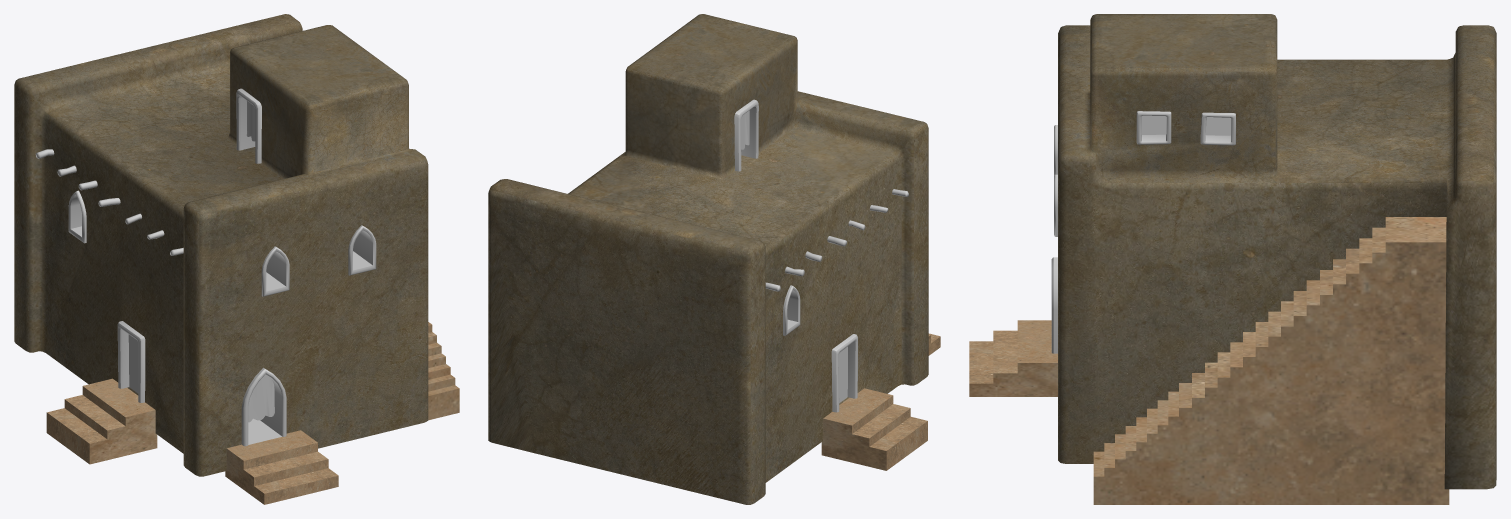
The model's file is Type2_1.fbx.
The picture shows the model from 3 angles, left to right: view 1: azimuth 30°, elevation 25°; view 2: azimuth 150°, elevation 25°; view 3: azimuth 270°, elevation 25°; orthographic projection. The views are drawn at different scales.
Parts seen in each view (by area): view 1: Cube, Cube.003, MAINDOORSBODY.021, WOODENPARTS.008, Cube.002, MAINDOORSBODY.022, DOOR.001; view 2: Cube, Cube.003, WOODENPARTS.008, MAINDOORSBODY.021; view 3: Cube, Cube.002, Cube.003, WOODENPARTS.008, MAINDOORSBODY.021, Plane.001.
Boxes of the visible parts, left/top/right/bottom form: Cube: left=14, top=14, right=428, bottom=476; Cube.003: left=46, top=378, right=338, bottom=504; MAINDOORSBODY.021: left=68, top=88, right=376, bottom=446; WOODENPARTS.008: left=35, top=149, right=183, bottom=402; Cube.002: left=428, top=322, right=459, bottom=420; MAINDOORSBODY.022: left=248, top=374, right=274, bottom=422; DOOR.001: left=128, top=334, right=138, bottom=393; Cube: left=488, top=14, right=928, bottom=504; Cube.003: left=821, top=333, right=940, bottom=470; WOODENPARTS.008: left=765, top=189, right=908, bottom=412; MAINDOORSBODY.021: left=734, top=99, right=800, bottom=335; Cube: left=1058, top=14, right=1496, bottom=489; Cube.002: left=1093, top=217, right=1449, bottom=504; Cube.003: left=969, top=320, right=1057, bottom=396; WOODENPARTS.008: left=1136, top=111, right=1235, bottom=145; MAINDOORSBODY.021: left=1051, top=125, right=1057, bottom=353; Plane.001: left=1141, top=115, right=1230, bottom=135.
Size of the model in its own units: 1128 by 1138 by 1336.
